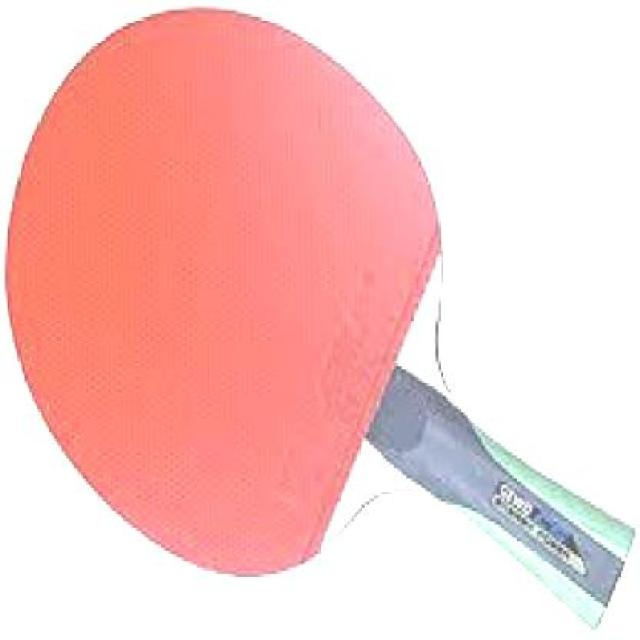table_tennis_racket: (4, 9, 450, 580)
